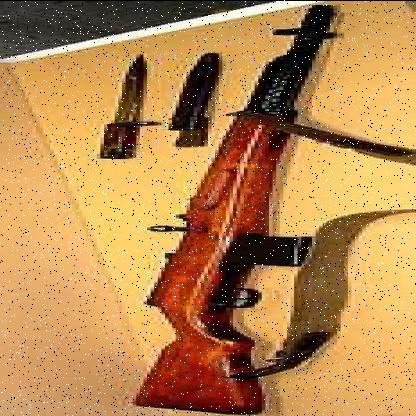rifle: (107, 1, 413, 412)
